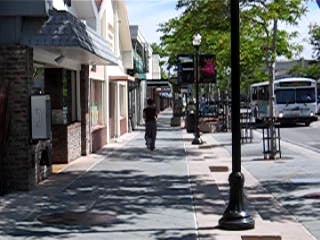person: (141, 98, 159, 151), (140, 98, 158, 151), (142, 98, 160, 151), (141, 97, 159, 150), (141, 99, 159, 152)
target_negative: (202, 99, 275, 188), (73, 151, 127, 222), (193, 104, 232, 179), (177, 23, 266, 54), (125, 200, 166, 231), (300, 162, 316, 197)
